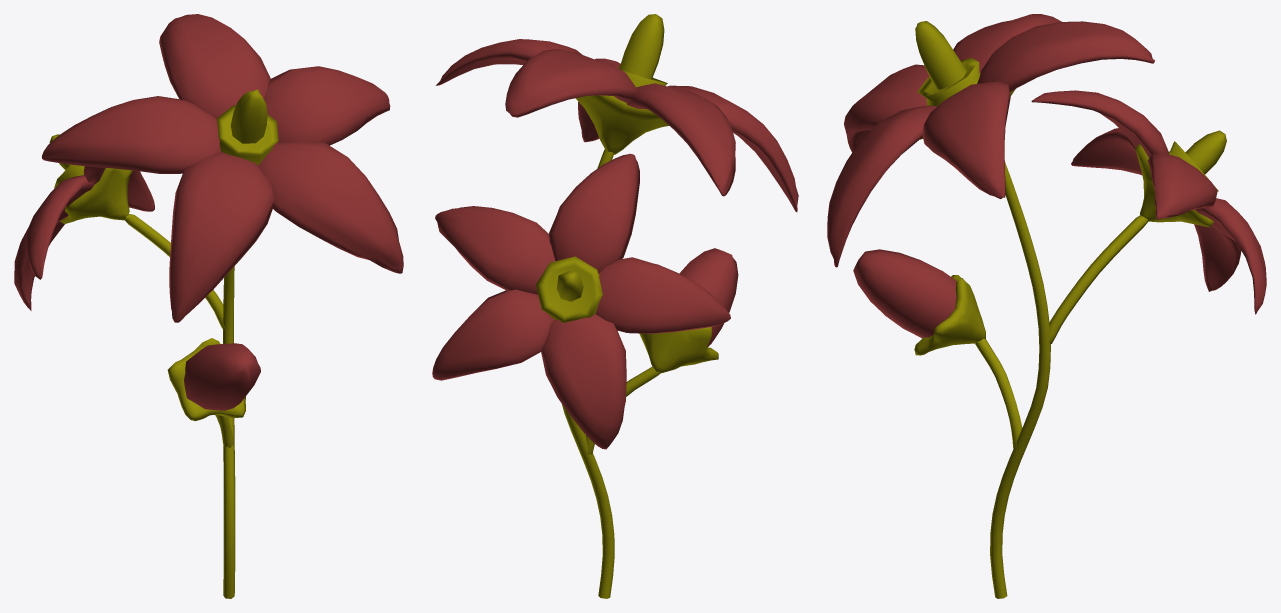
File: Nightshade.fbx
The picture shows the model from 3 angles, left to right: view 1: azimuth 30°, elevation 25°; view 2: azimuth 150°, elevation 25°; view 3: azimuth 270°, elevation 25°; orthographic projection. The views are drawn at different scales.
Parts seen in each view (by area): view 1: Nightshade; view 2: Nightshade; view 3: Nightshade.
Part boxes in pixels (<box>): Nightshade: <box>14,14,403,598</box>; Nightshade: <box>432,14,798,598</box>; Nightshade: <box>827,14,1266,598</box>.
Bounding box in the file's own units: 3.68 × 5.98 × 4.15.
